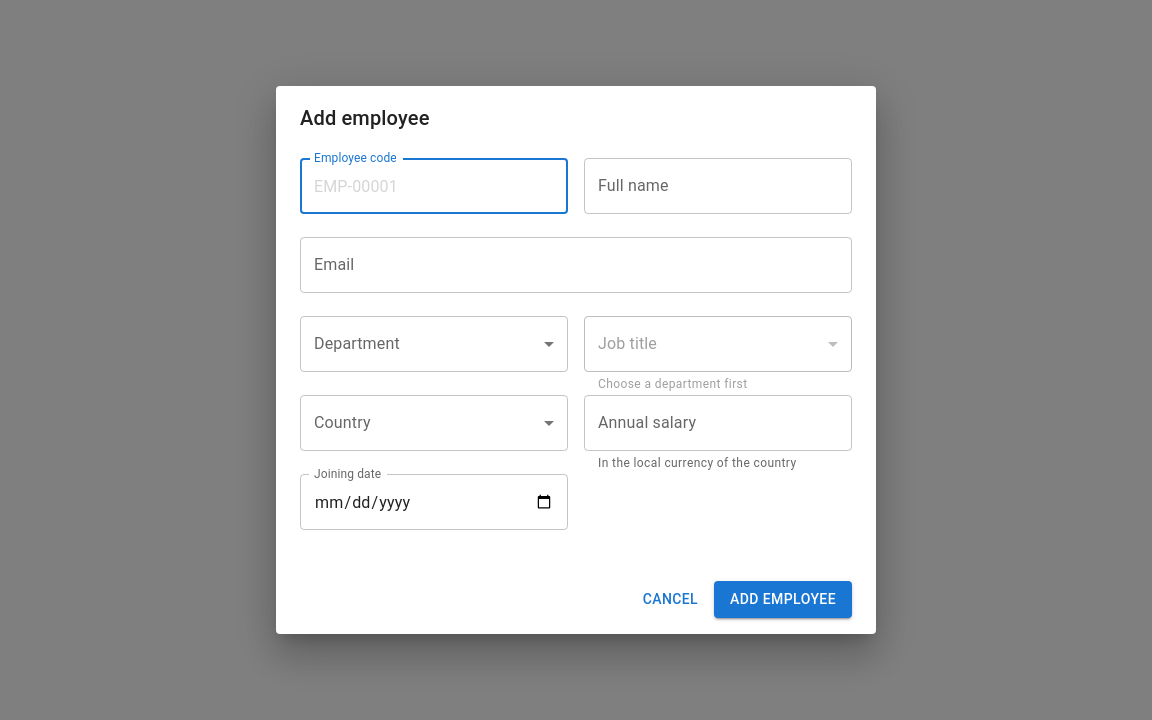
Test case: EmployeeFormDialog › only offers job titles from the chosen department
This screenshot has width=1152, height=720.
Click the 1st dropdown named "Department".
click(434, 344)  # box left=300, top=316, right=568, bottom=372
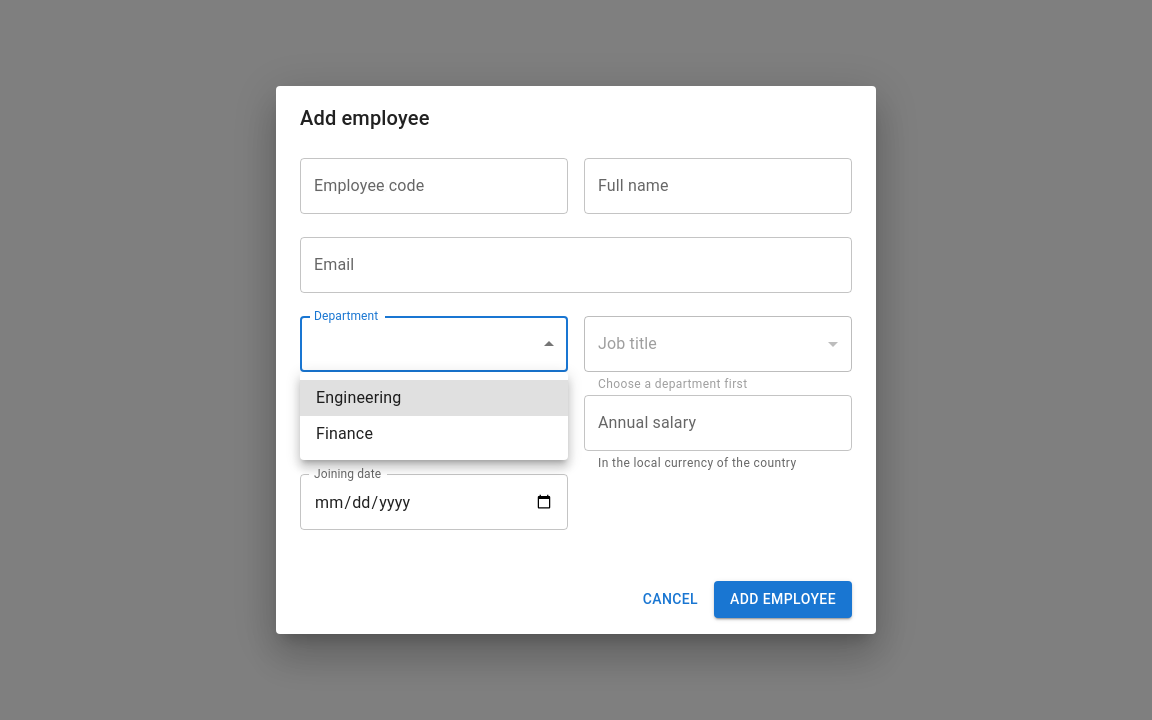
Click the option "Finance".
click(344, 434)  # box left=316, top=424, right=373, bottom=443
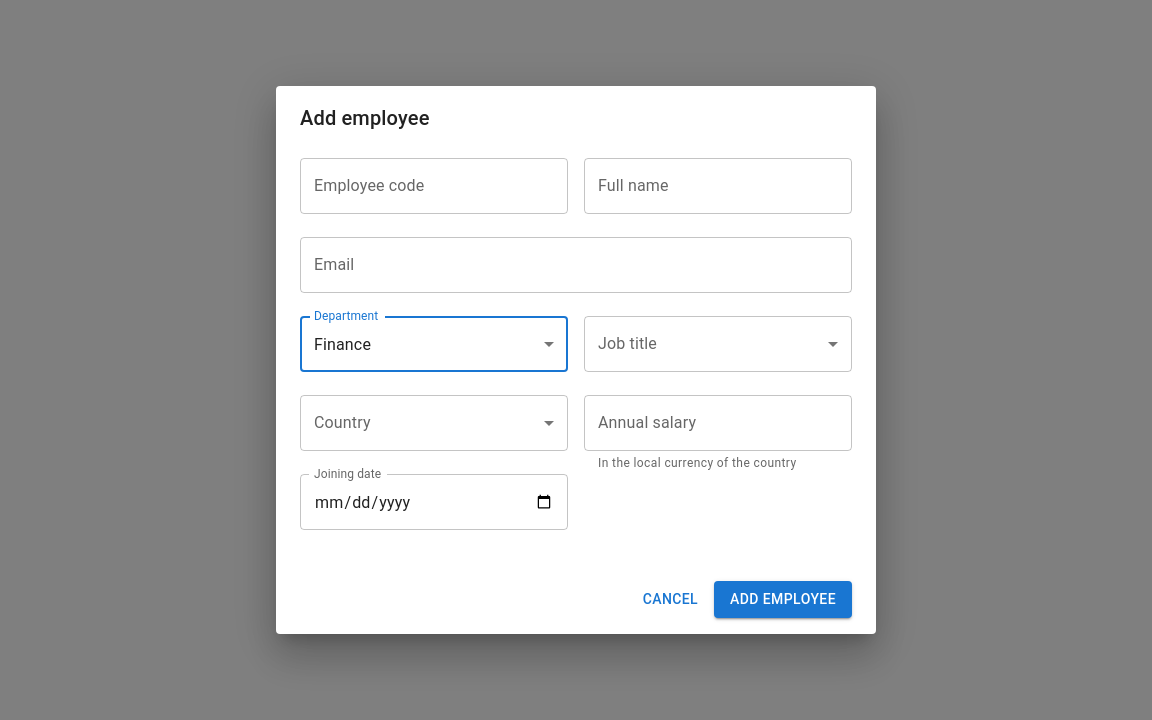
Click the dropdown named "Job title" next to "Job title".
click(718, 344)  # box left=584, top=316, right=852, bottom=372
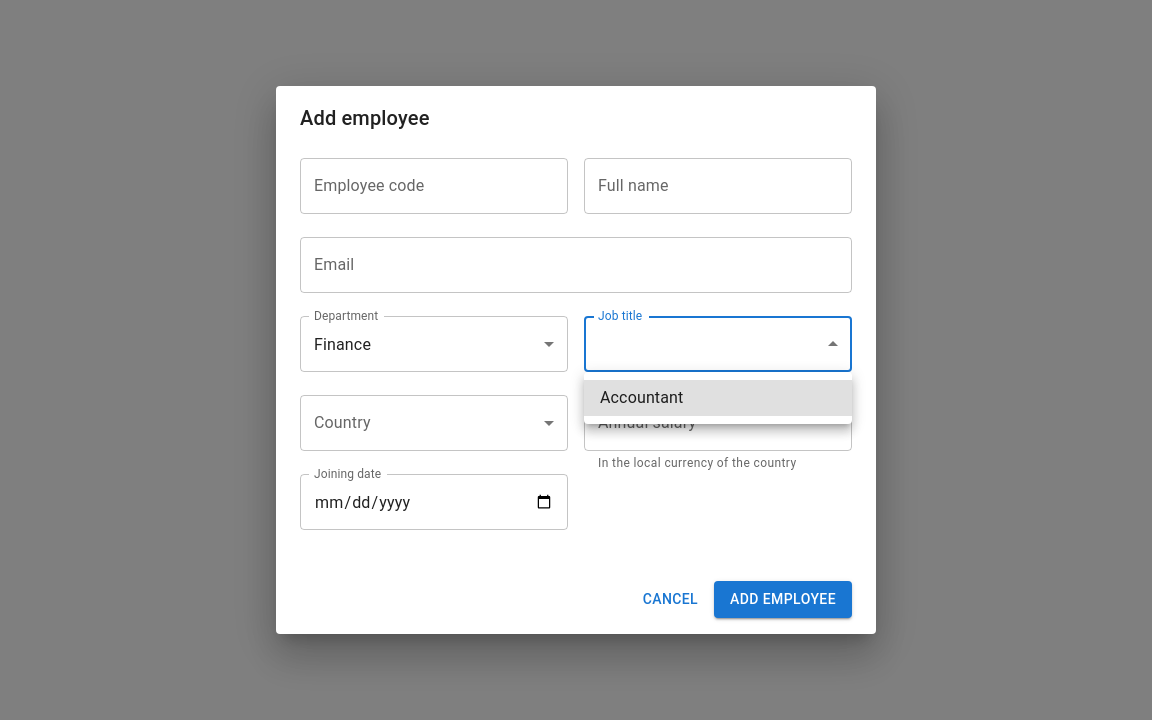
Expected: the options read "Accountant", in this order, left=584, top=380, right=852, bottom=416
